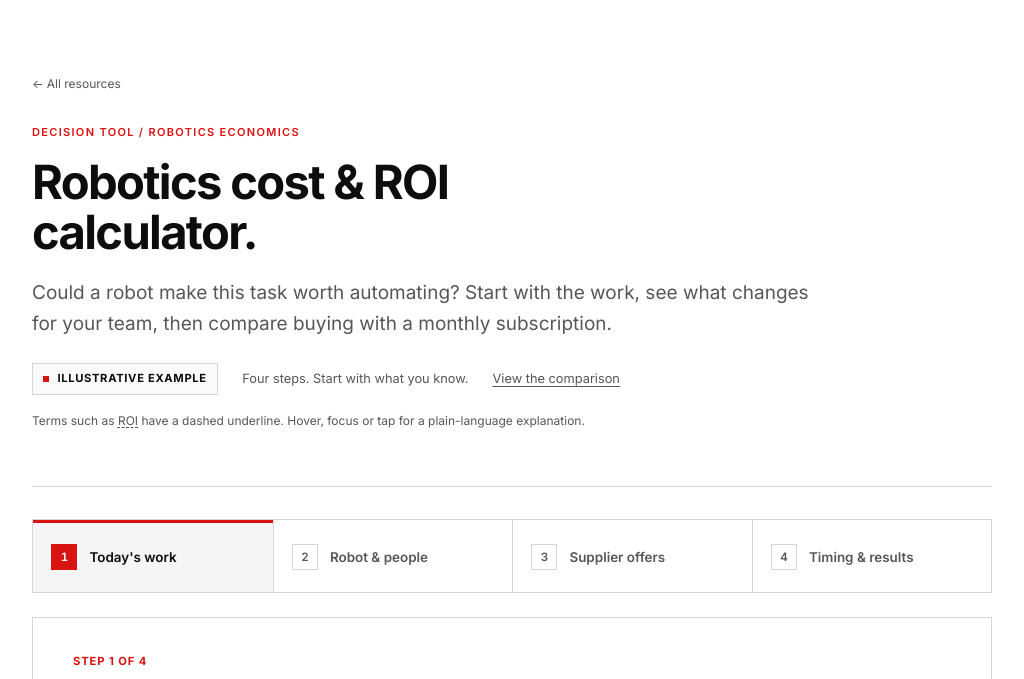
Test case: Guided robotics cost and ROI calculator › changes financial results when all released hours become avoided paid work
The width and height of the screenshot is (1024, 679).
Click the button "2 Robot & people" at (393, 556), box 274,520 -> 512,592
(page scrolled)
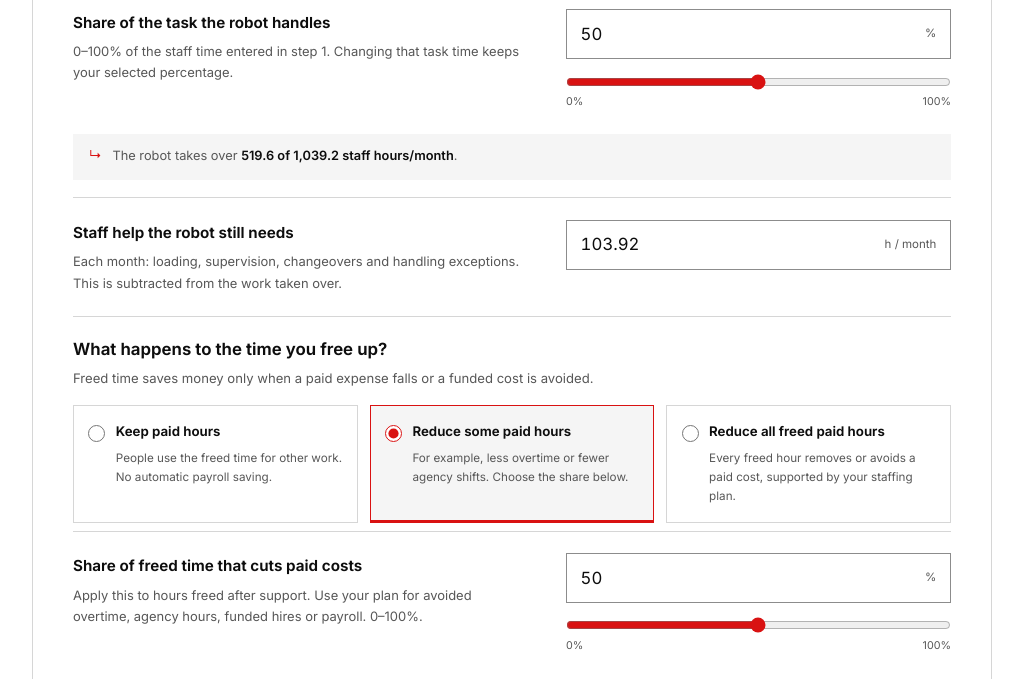
Click the radio button labelled "Reduce all freed paid hours" at (690, 433), box 682,425 -> 699,442
(page scrolled)
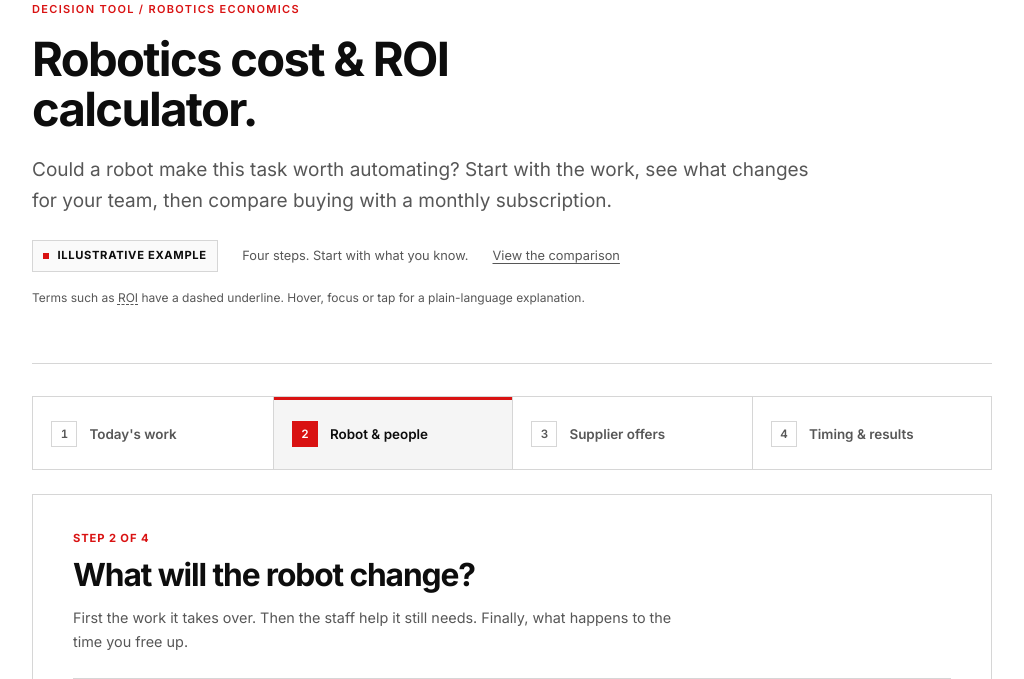
Click the button "4 Timing & results" at (872, 433), box 752,397 -> 991,469
(page scrolled)
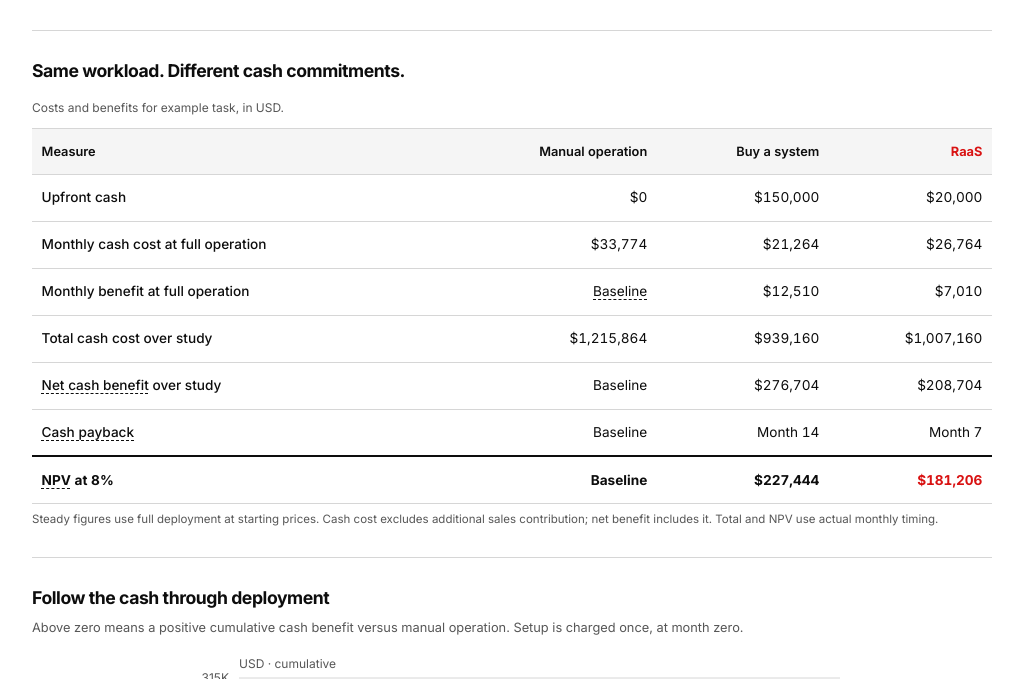
Result: the row "NPV at 8% Baseline $227,444 $181,206" is shown at 32,456 -> 992,504
Result: the row "Cash payback Baseline Month 14 Month 7" is shown at 32,409 -> 992,456
